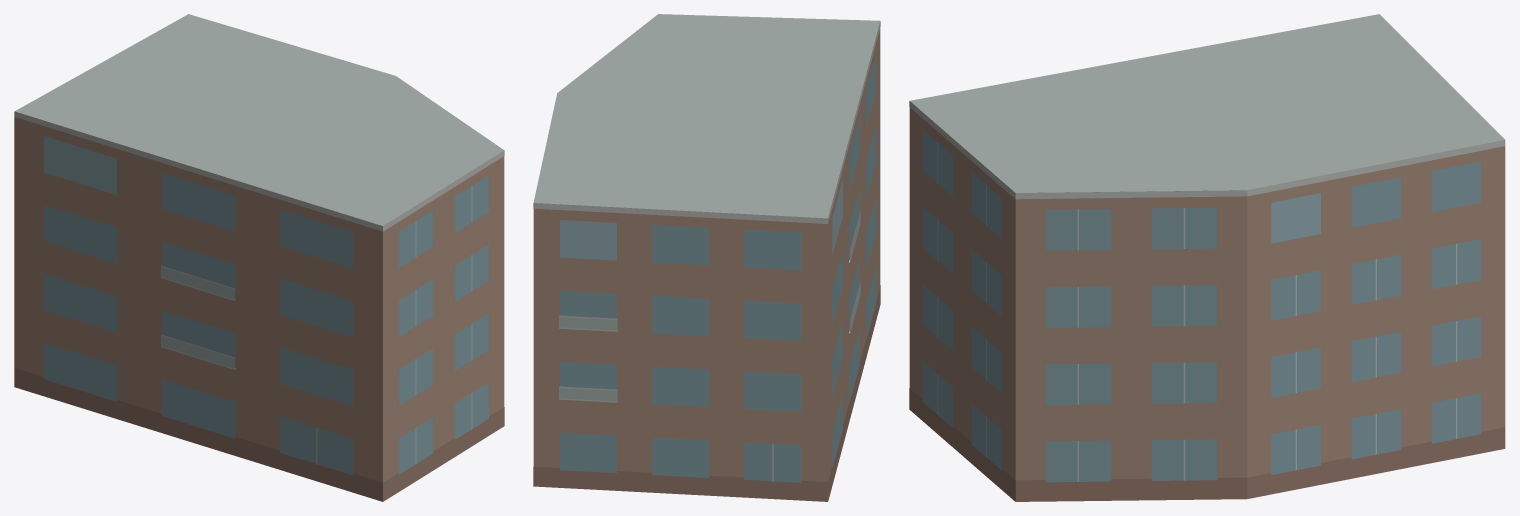
Rendered from residential-d3932392-bad7-401c-9da9-2604246d5db1.glb.
The picture shows the model from 3 angles, left to right: view 1: azimuth 30°, elevation 25°; view 2: azimuth 150°, elevation 25°; view 3: azimuth 270°, elevation 25°; orthographic projection. The views are drawn at different scales.
Parts seen in each view (by area): view 1: residential-d3932392-bad7-401c-9da9-2604246d5db1.tmp; view 2: residential-d3932392-bad7-401c-9da9-2604246d5db1.tmp; view 3: residential-d3932392-bad7-401c-9da9-2604246d5db1.tmp.
Part boxes in pixels (bbox=[...]): residential-d3932392-bad7-401c-9da9-2604246d5db1.tmp: bbox=[14, 14, 504, 501]; residential-d3932392-bad7-401c-9da9-2604246d5db1.tmp: bbox=[533, 14, 880, 501]; residential-d3932392-bad7-401c-9da9-2604246d5db1.tmp: bbox=[909, 14, 1505, 501].
Bounding box in the file's own units: 15.18 × 12.2 × 21.34.
